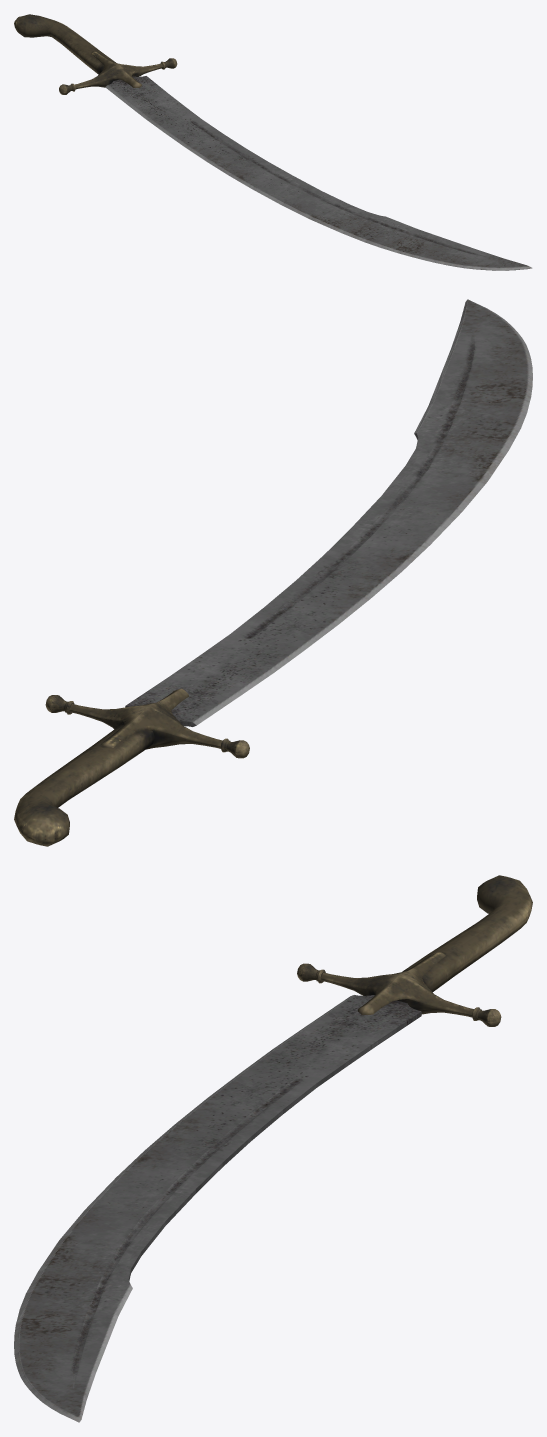
File: grossmesser.fbx
3 renders of one model, top to bottom at view 1: azimuth 30°, elevation 25°; view 2: azimuth 150°, elevation 25°; view 3: azimuth 330°, elevation 25°, orthographic. The views are drawn at different scales.
Parts seen in each view (by area): view 1: WP_A_0425; view 2: WP_A_0425; view 3: WP_A_0425.
Boxes of the visible parts, left/top/right/bottom form: WP_A_0425: left=14, top=14, right=532, bottom=270; WP_A_0425: left=14, top=299, right=532, bottom=846; WP_A_0425: left=14, top=875, right=532, bottom=1422.
Bounding box in the file's own units: 32.6 × 4.29 × 124.
1 material, 1 textured.
